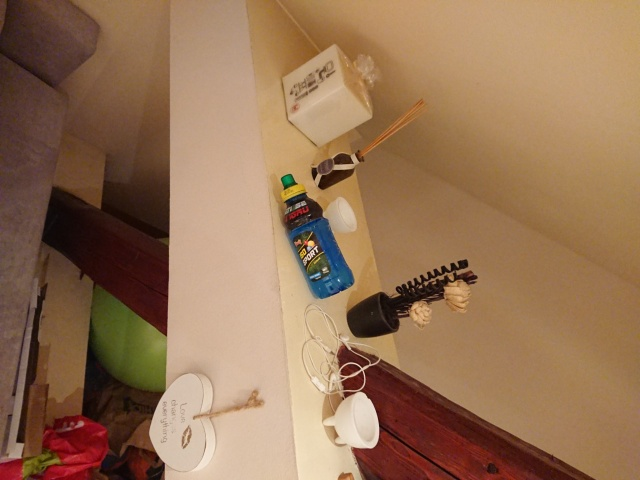Vindi Iso Sport Forest Strawberries 500mL: (279, 172, 355, 300)
